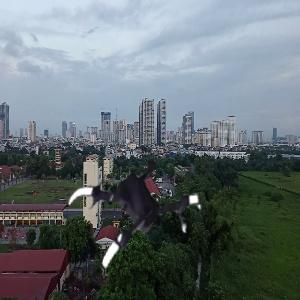drone: (66, 134, 214, 282)
